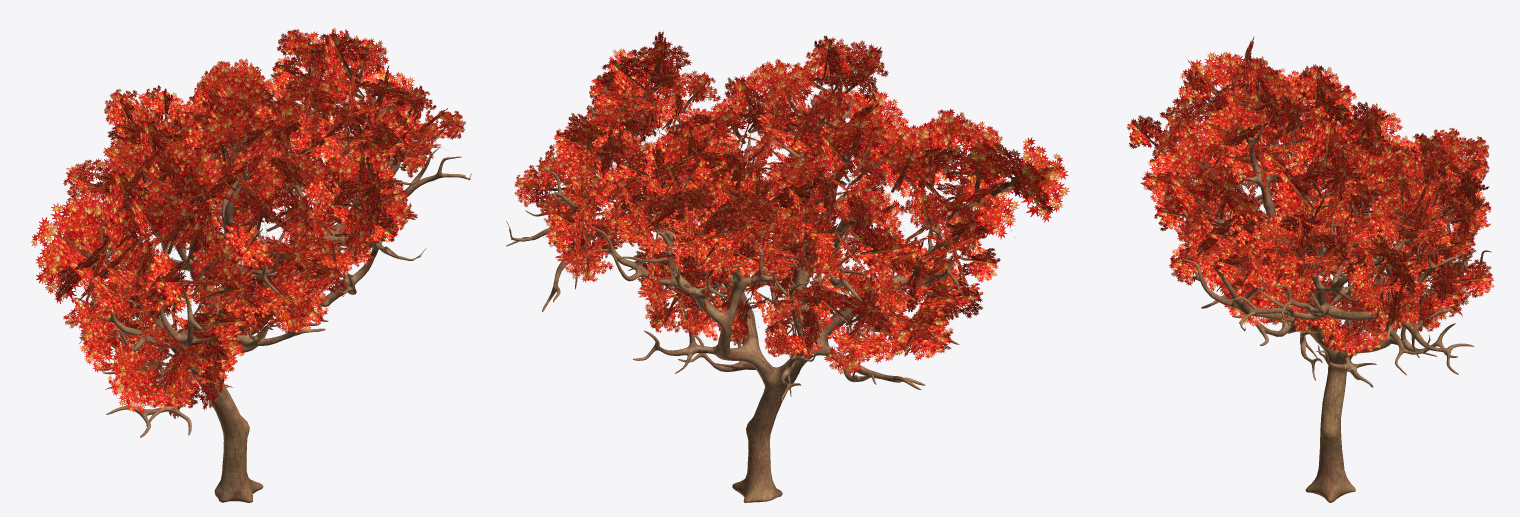
3 renders of one model, left to right at view 1: azimuth 30°, elevation 25°; view 2: azimuth 150°, elevation 25°; view 3: azimuth 270°, elevation 25°, orthographic. The views are drawn at different scales.
Visible parts, largest first — view 1: japanese_maple_leaves3_0, japanese_maple_tree2_1; view 2: japanese_maple_leaves3_0, japanese_maple_tree2_1; view 3: japanese_maple_leaves3_0, japanese_maple_tree2_1.
Part boxes in pixels (x1,y1,x2,y2): japanese_maple_leaves3_0: (31,28,465,418); japanese_maple_tree2_1: (75,96,471,502); japanese_maple_leaves3_0: (514,30,1069,374); japanese_maple_tree2_1: (506,96,973,502); japanese_maple_leaves3_0: (1127,37,1494,356); japanese_maple_tree2_1: (1180,117,1491,502).
Size of the model in its own units: 0.5363 by 0.4775 by 0.3922.
Materials: 2 (2 with a texture image).
